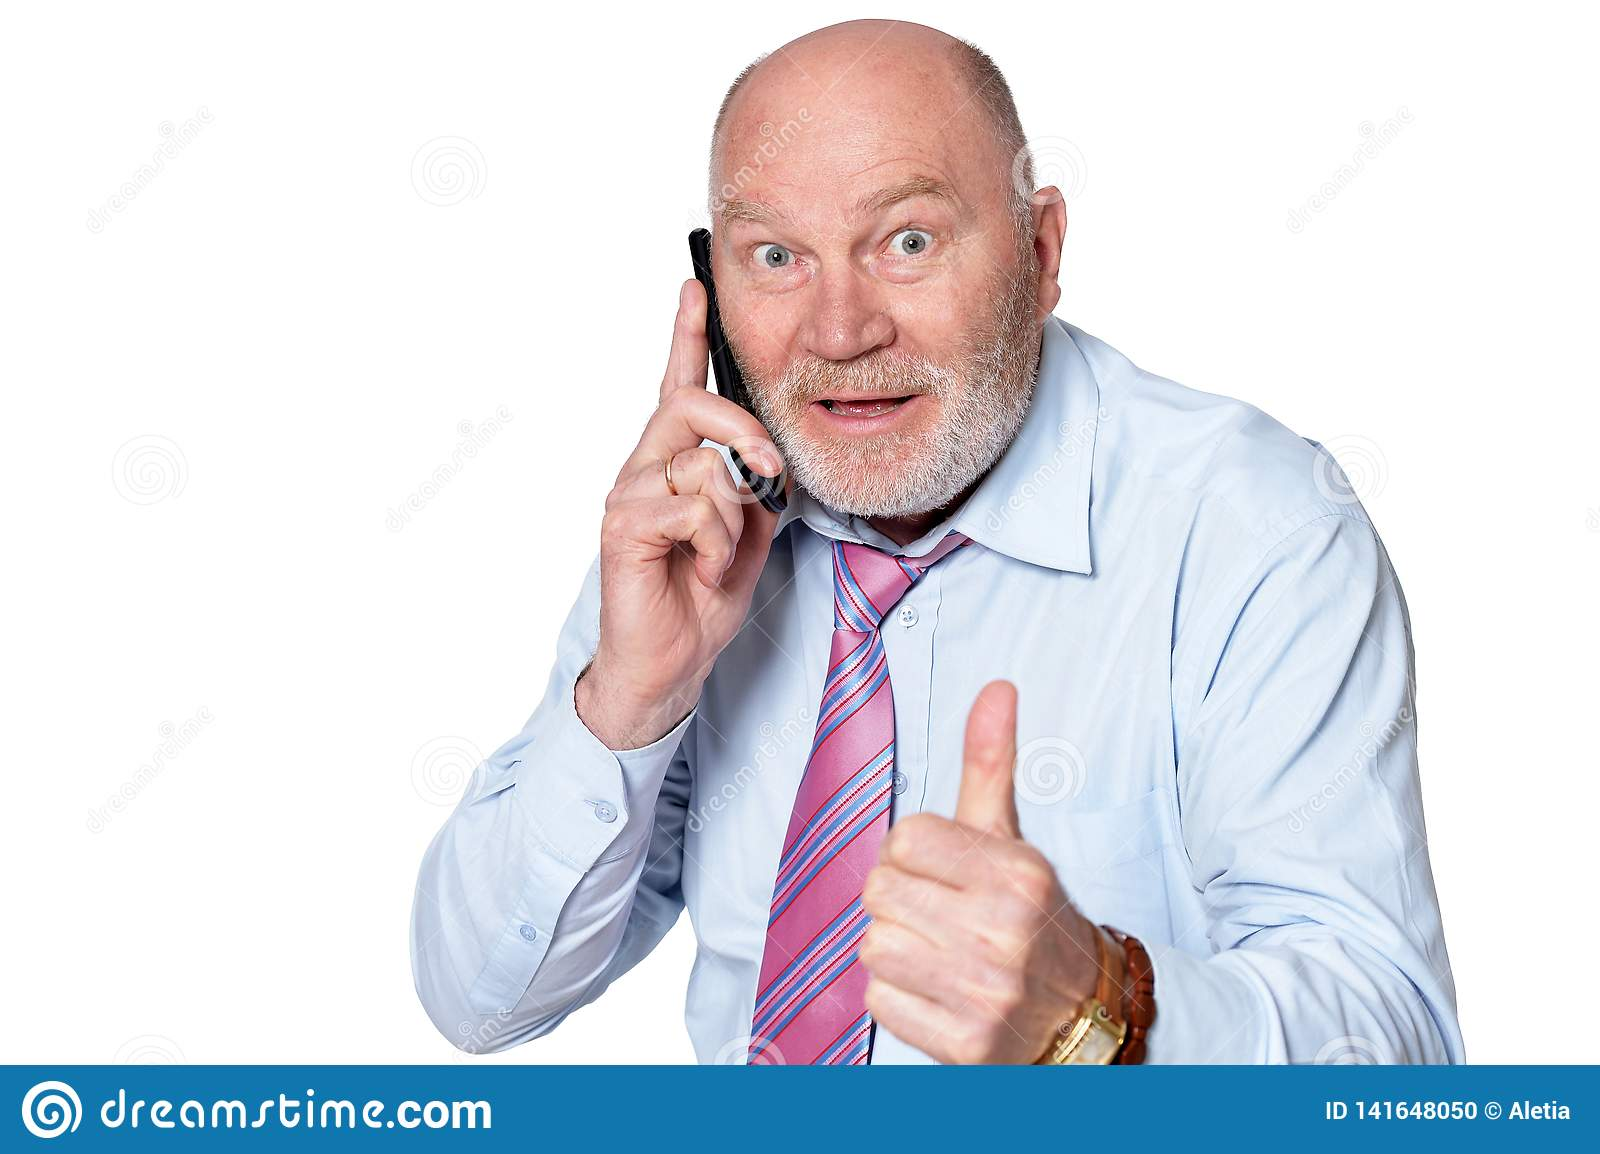phone: (675, 215, 798, 523)
talk: (591, 173, 976, 691)
